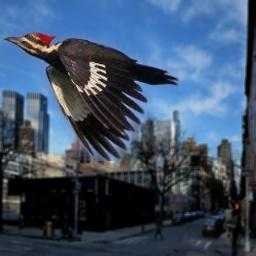Woodpecker: (3, 31, 179, 161)
